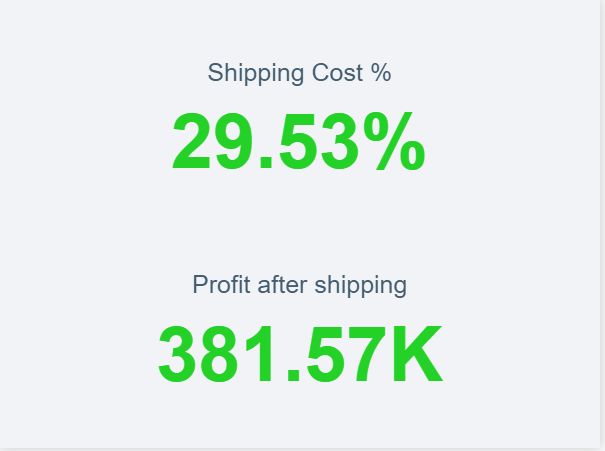

What the dashboard file says about the page in this screenshot:
{"tool":"powerbi","page":{"name":"shipping tool tip ","canvas":[400,300],"ordinal":4},"visuals":[{"type":"cardVisual","title":"Total  Sales","fields":{"Data":["Meaures.Shipping Cost %"]},"box":[11,0,378.7,142],"z":0},{"type":"cardVisual","title":"Total  Sales","fields":{"Data":["Meaures.Profit after shipping"]},"box":[11,142,378.7,142],"z":1000}]}

Visuals, with their boxes in screenshot pixels (x1, y1, x2, y2), scaled from the page's 400x300 canvas onto the 605x451 screenshot:
"Total  Sales" cardVisual: (17,0,589,213)
"Total  Sales" cardVisual: (17,213,589,427)
